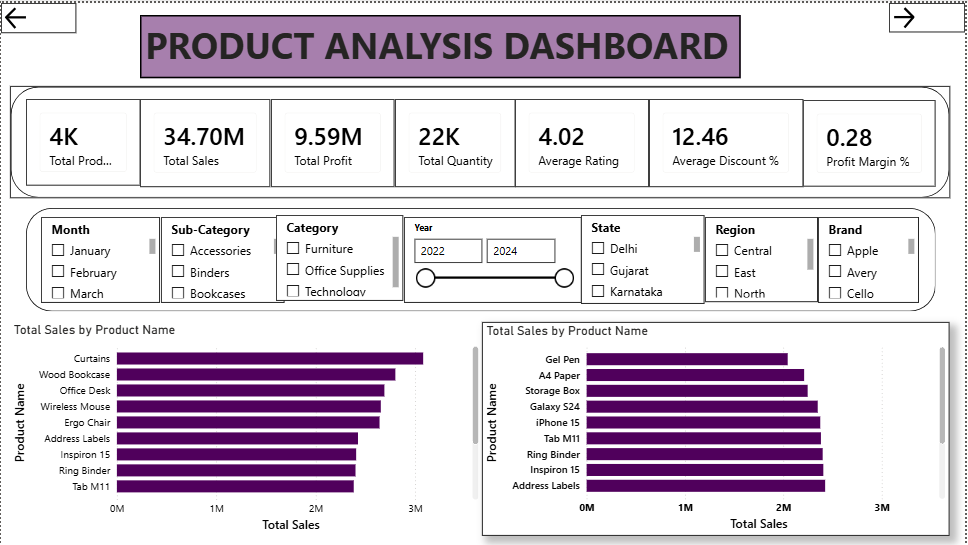

This screenshot's page, from the dashboard's own definition file:
{"tool":"powerbi","page":{"name":"Product Dashboard","canvas":[1280,720],"ordinal":4},"visuals":[{"type":"textbox","box":[185.2,16.4,797.7,83.7],"z":0},{"type":"shape","box":[12,110.5,1248.8,149.4],"z":1000},{"type":"cardVisual","fields":{"Data":["Date Table.Total Products"]},"box":[32.9,127,152.4,115],"z":2000},{"type":"cardVisual","fields":{"Data":["FactSales.Total Sales"]},"box":[185.2,127,173.3,116.5],"z":3000},{"type":"cardVisual","fields":{"Data":["FactSales.Total Profit"]},"box":[358.5,127,164.3,116.5],"z":4000},{"type":"cardVisual","fields":{"Data":["FactSales.Total Quantity"]},"box":[522.8,127,159.8,116.5],"z":5000},{"type":"cardVisual","fields":{"Data":["FactSales.Profit Margin %"]},"box":[1065.1,128.5,176.3,115],"z":6000},{"type":"cardVisual","fields":{"Data":["FactSales.Average Discount %"]},"box":[860.4,127,204.6,116.5],"z":7000},{"type":"cardVisual","fields":{"Data":["FactSales.Average Rating"]},"box":[682.7,127,177.8,116.5],"z":8000},{"type":"shape","box":[32.9,271.9,1208.5,137.4],"z":9000},{"type":"slicer","fields":{"Values":["Date Table.Date.Variation.Date Hierarchy.Year"]},"box":[534.9,283.7,235.8,114.5],"z":10000},{"type":"slicer","fields":{"Values":["Date Table.Date.Variation.Date Hierarchy.Month"]},"box":[53.8,283.8,158.3,113.5],"z":11000},{"type":"slicer","fields":{"Values":["DimProduct.Sub-Category"]},"box":[212.1,283.8,164.3,113.5],"z":13000},{"type":"slicer","fields":{"Values":["FactSales.Brand"]},"box":[1086,283.8,134.4,113.5],"z":16000},{"type":"clusteredBarChart","fields":{"Category":["FactSales.Product Name"],"Y":["FactSales.Total Sales"]},"box":[12,424.2,627.4,283.8],"z":17000},{"type":"clusteredBarChart","fields":{"Category":["FactSales.Product Name"],"Y":["FactSales.Total Sales"]},"box":[639.3,424.2,621.4,283.8],"z":18000},{"type":"slicer","fields":{"Values":["DimProduct.Category"]},"box":[365.7,282,169.2,114.5],"z":20000},{"type":"slicer","fields":{"Values":["DimLocation.Region"]},"box":[934.8,283.7,150.4,112.8],"z":21000},{"type":"slicer","fields":{"Values":["DimLocation.State"]},"box":[770.7,282,164.1,117.9],"z":22000},{"type":"actionButton","box":[0,0,100,40],"z":23000},{"type":"actionButton","box":[1179.2,0,100.8,39.3],"z":24000}]}

Visuals, with their boxes in screenshot pixels (x1, y1, x2, y2), scaled from the page's 1280x720 canvas onto the 968x545 screenshot:
textbox: <box>140,12,743,76</box>
shape: <box>9,84,953,197</box>
cardVisual - Date Table.Total Products: <box>25,96,140,183</box>
cardVisual - FactSales.Total Sales: <box>140,96,271,184</box>
cardVisual - FactSales.Total Profit: <box>271,96,395,184</box>
cardVisual - FactSales.Total Quantity: <box>395,96,516,184</box>
cardVisual - FactSales.Profit Margin %: <box>805,97,939,184</box>
cardVisual - FactSales.Average Discount %: <box>651,96,805,184</box>
cardVisual - FactSales.Average Rating: <box>516,96,651,184</box>
shape: <box>25,206,939,310</box>
slicer - Date Table.Date.Variation.Date Hierarchy.Year: <box>405,215,583,301</box>
slicer - Date Table.Date.Variation.Date Hierarchy.Month: <box>41,215,160,301</box>
slicer - DimProduct.Sub-Category: <box>160,215,285,301</box>
slicer - FactSales.Brand: <box>821,215,923,301</box>
clusteredBarChart - FactSales.Product Name x FactSales.Total Sales: <box>9,321,484,536</box>
clusteredBarChart - FactSales.Product Name x FactSales.Total Sales: <box>483,321,953,536</box>
slicer - DimProduct.Category: <box>277,213,405,300</box>
slicer - DimLocation.Region: <box>707,215,821,300</box>
slicer - DimLocation.State: <box>583,213,707,303</box>
actionButton: <box>0,0,76,30</box>
actionButton: <box>892,0,967,30</box>
